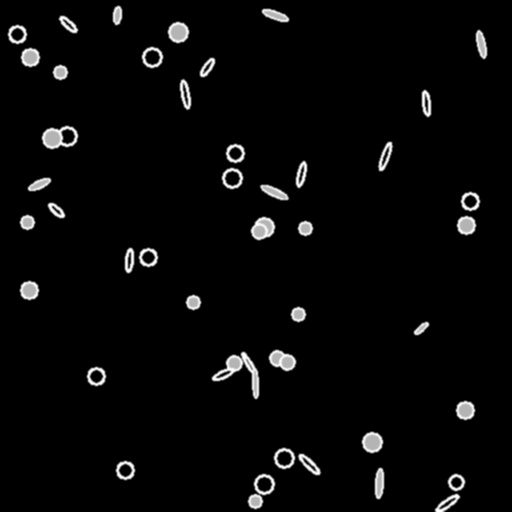pseudomonas: (297, 452, 321, 476), (434, 492, 460, 512), (260, 183, 288, 201), (377, 141, 393, 171), (240, 351, 258, 377), (262, 7, 288, 23), (198, 56, 216, 78), (27, 176, 51, 192), (212, 366, 234, 382), (47, 201, 65, 219), (59, 15, 77, 33), (475, 31, 487, 57), (295, 162, 307, 186), (180, 80, 190, 108), (421, 90, 431, 116), (413, 321, 429, 335), (375, 469, 383, 497), (125, 248, 133, 272), (252, 369, 258, 397), (113, 7, 121, 23)
synechocystis: (255, 218, 273, 236), (275, 449, 293, 467), (363, 433, 381, 451), (58, 127, 76, 145), (169, 23, 187, 41), (43, 129, 61, 147), (223, 169, 241, 187), (143, 48, 161, 66), (255, 475, 273, 493), (21, 282, 37, 298), (227, 145, 243, 161), (458, 217, 474, 233), (117, 462, 133, 478), (22, 49, 38, 65), (457, 402, 473, 418), (140, 249, 156, 265), (88, 368, 104, 384), (462, 193, 478, 209), (9, 26, 25, 42), (270, 351, 284, 365), (280, 355, 294, 369), (227, 356, 241, 370), (449, 475, 463, 489), (252, 224, 266, 238), (54, 66, 66, 78), (249, 495, 261, 507), (187, 296, 199, 308), (21, 216, 33, 228), (299, 222, 311, 234), (292, 308, 304, 320)
